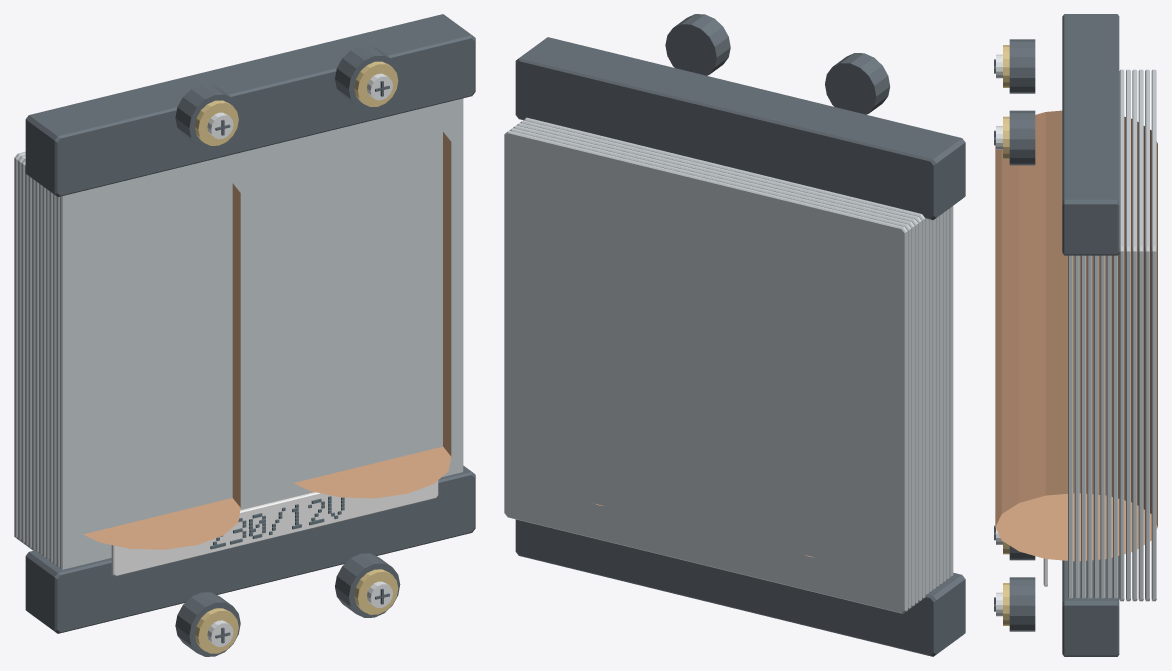
The model's file is bellTransformer.glb.
3 views of the same model, side by side, from view 1: azimuth 30°, elevation 25°; view 2: azimuth 150°, elevation 25°; view 3: azimuth 270°, elevation 25° (orthographic). The views are drawn at different scales.
Parts seen in each view (by area): view 1: bellTransformer-preview; view 2: bellTransformer-preview; view 3: bellTransformer-preview.
Boxes of the visible parts, bbox=[...] form: bellTransformer-preview: bbox=[14, 14, 475, 656]; bellTransformer-preview: bbox=[504, 14, 965, 656]; bellTransformer-preview: bbox=[994, 14, 1157, 656].
Size of the model in its own units: 2.57 by 3.27 by 0.9411.
